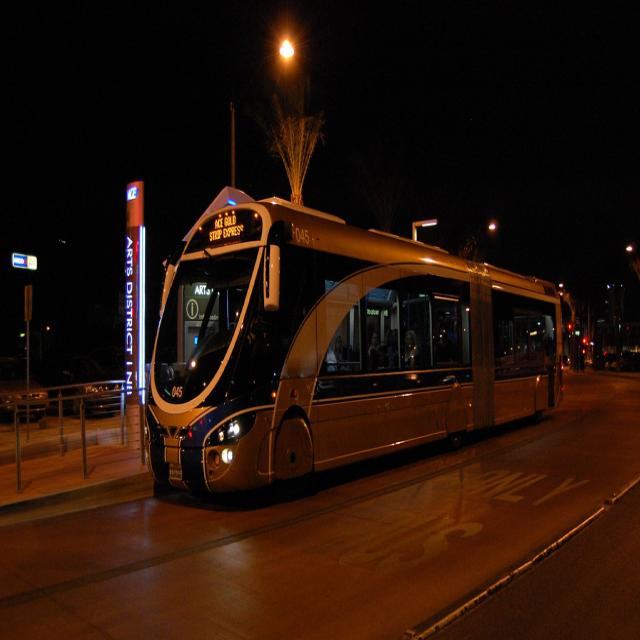Bus: (140, 216, 581, 499)
